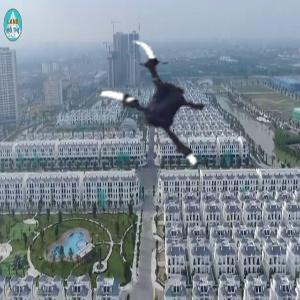drone: (79, 35, 225, 181)
